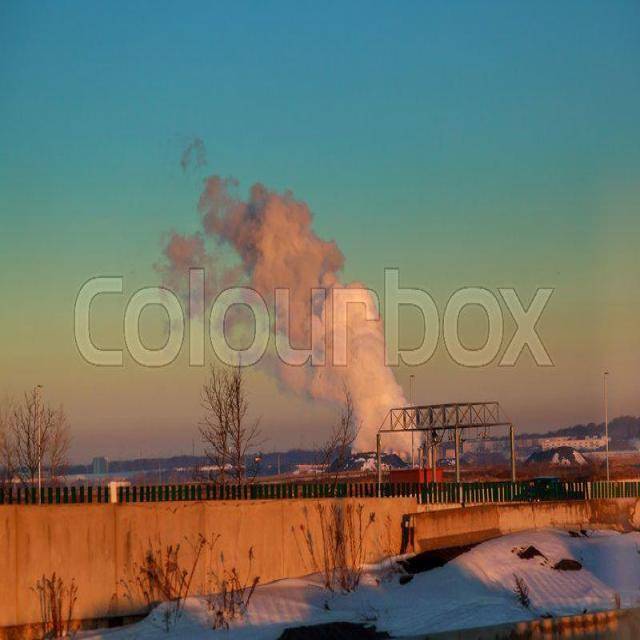Smoke: (156, 137, 424, 466)
